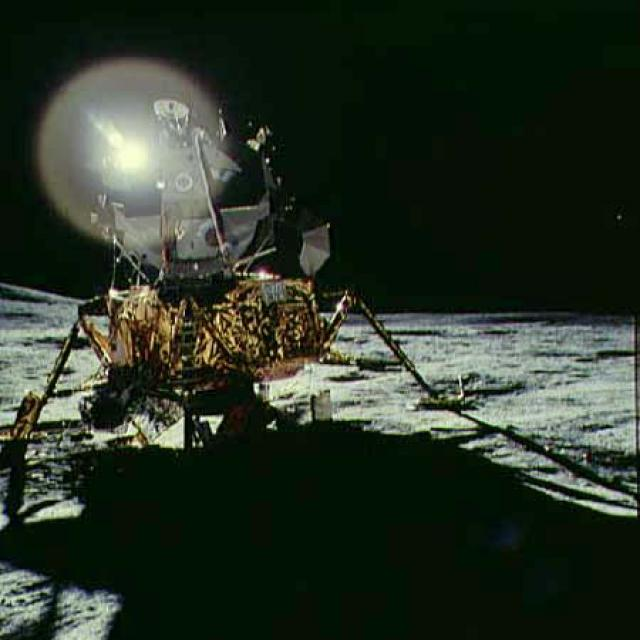crater: (422, 360, 590, 403), (24, 318, 130, 355), (352, 322, 467, 344), (579, 338, 638, 370)
